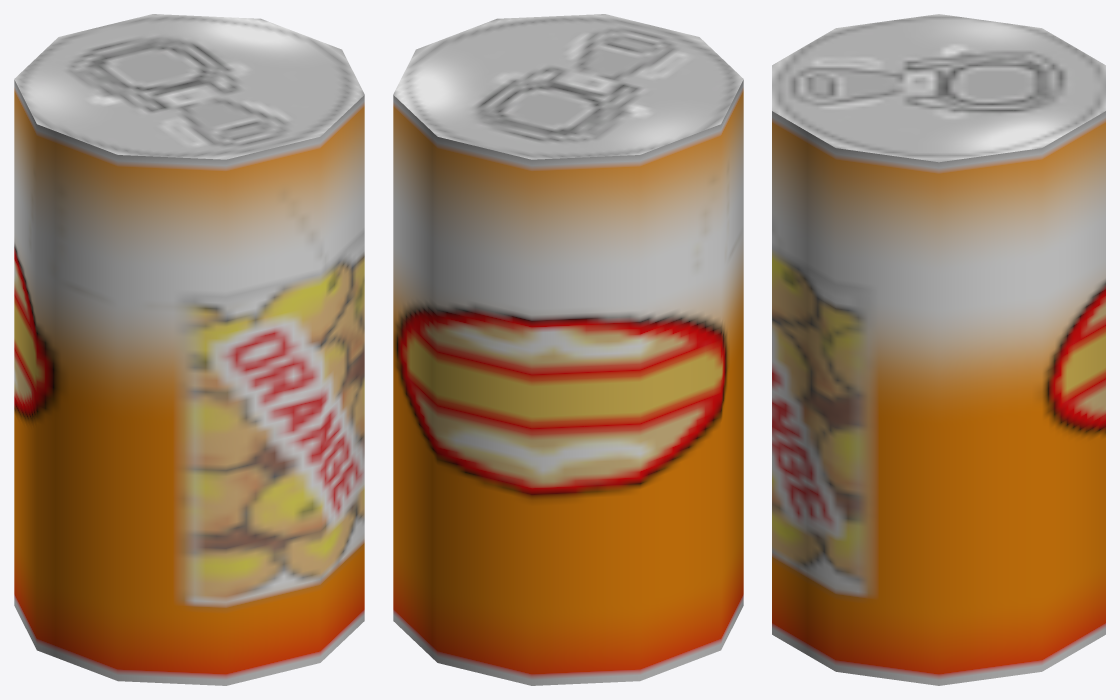
File: giftgoods083b.fbx
3 renders of one model, left to right at view 1: azimuth 30°, elevation 25°; view 2: azimuth 150°, elevation 25°; view 3: azimuth 270°, elevation 25°, orthographic.
Parts seen in each view (by area): view 1: giftgoods083b; view 2: giftgoods083b; view 3: giftgoods083b.
Boxes of the visible parts, x1,y1,x2,y2 form: giftgoods083b: [14, 14, 364, 685]; giftgoods083b: [393, 14, 743, 685]; giftgoods083b: [772, 14, 1105, 685].
Size of the model in its own units: 0.0989 by 0.1628 by 0.094.
